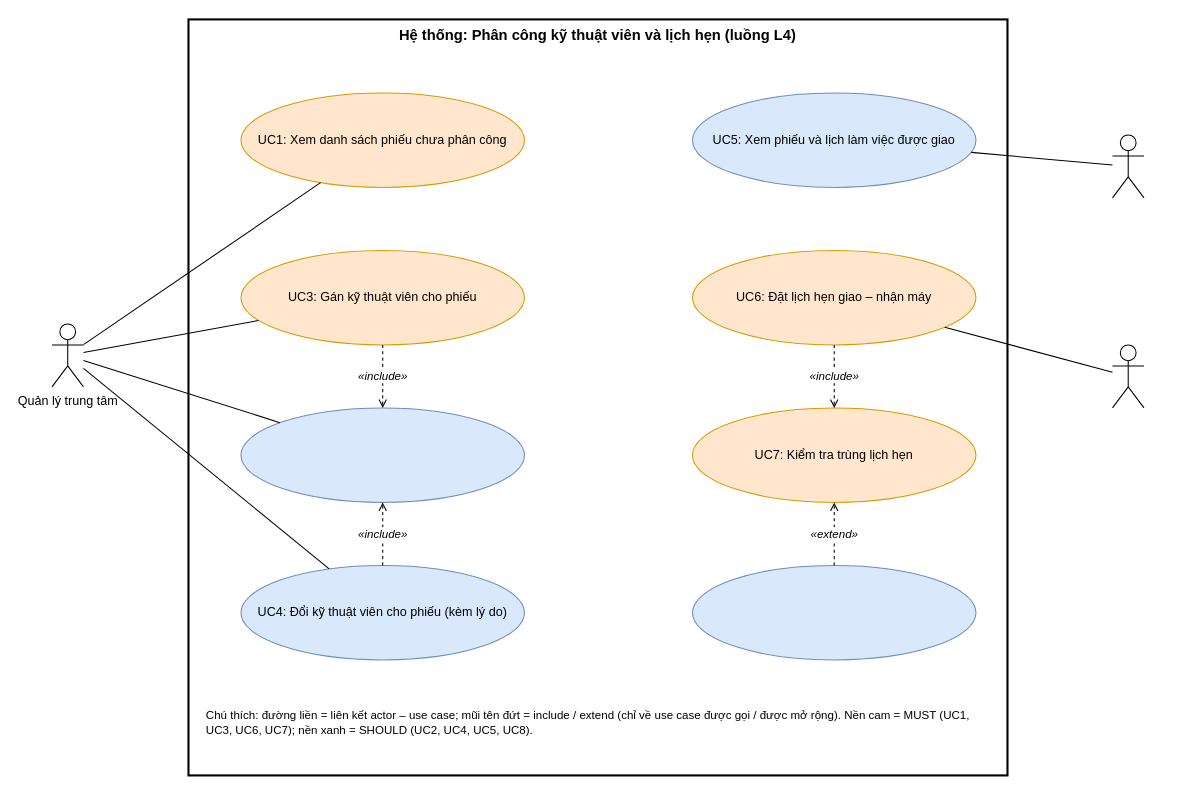
Some shapes in this 1182 by 794 pixel diagram are drawn without their labels. Here are the shapes that lost their labels. From the top down, the box of each, then its label:
(1111, 134, 1144, 198): Kỹ thuật viên
(1111, 344, 1144, 408): Khách hàng
(240, 407, 524, 502): UC2: Xem kỹ thuật viên phù hợp và khối lượng công việc
(691, 564, 976, 660): UC8: Đề xuất khung giờ trống thay thế
